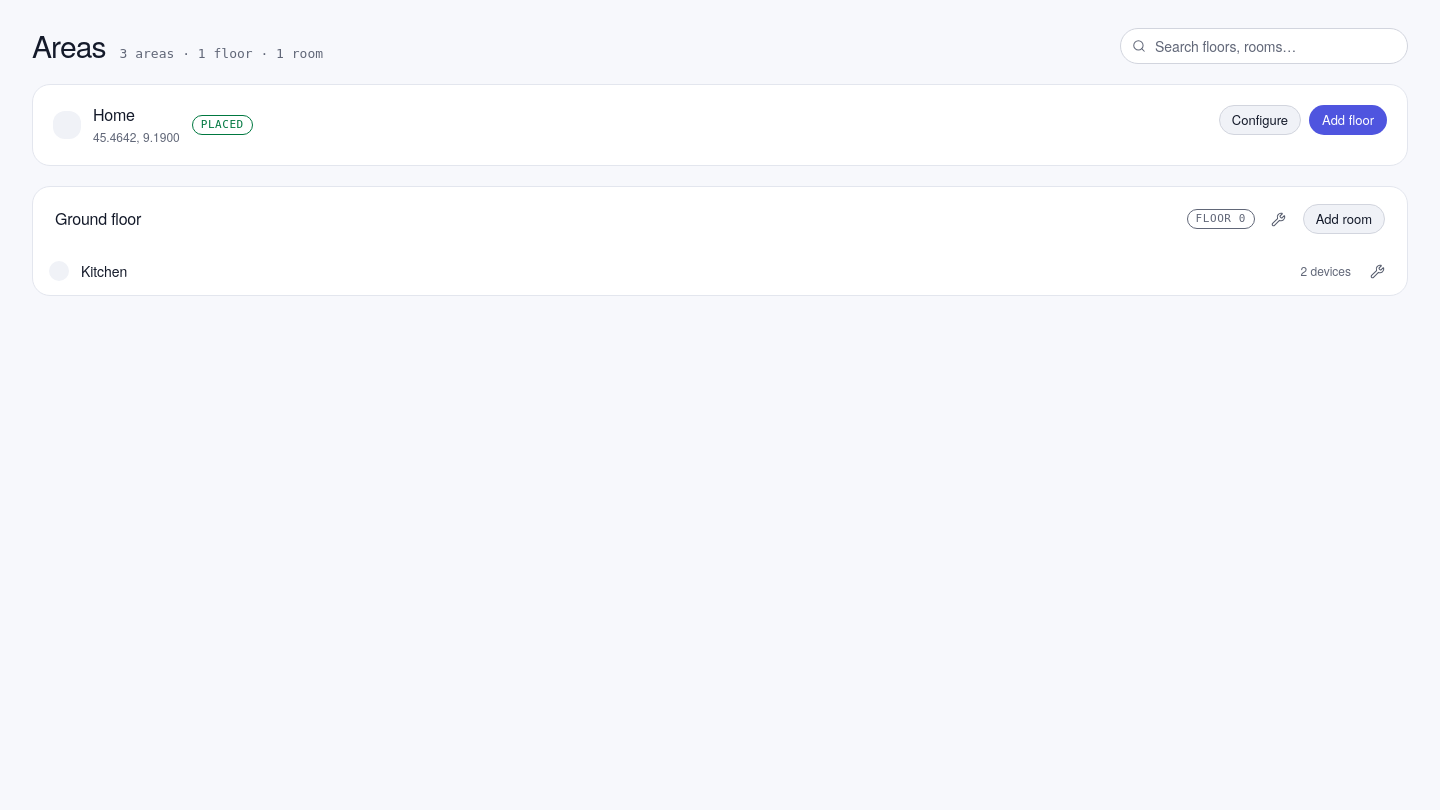
Test: AreasPage › opens a room for configuring from its row
Click the button named "Configure Kitchen". click: (1377, 271)
box: [1365, 259, 1389, 283]
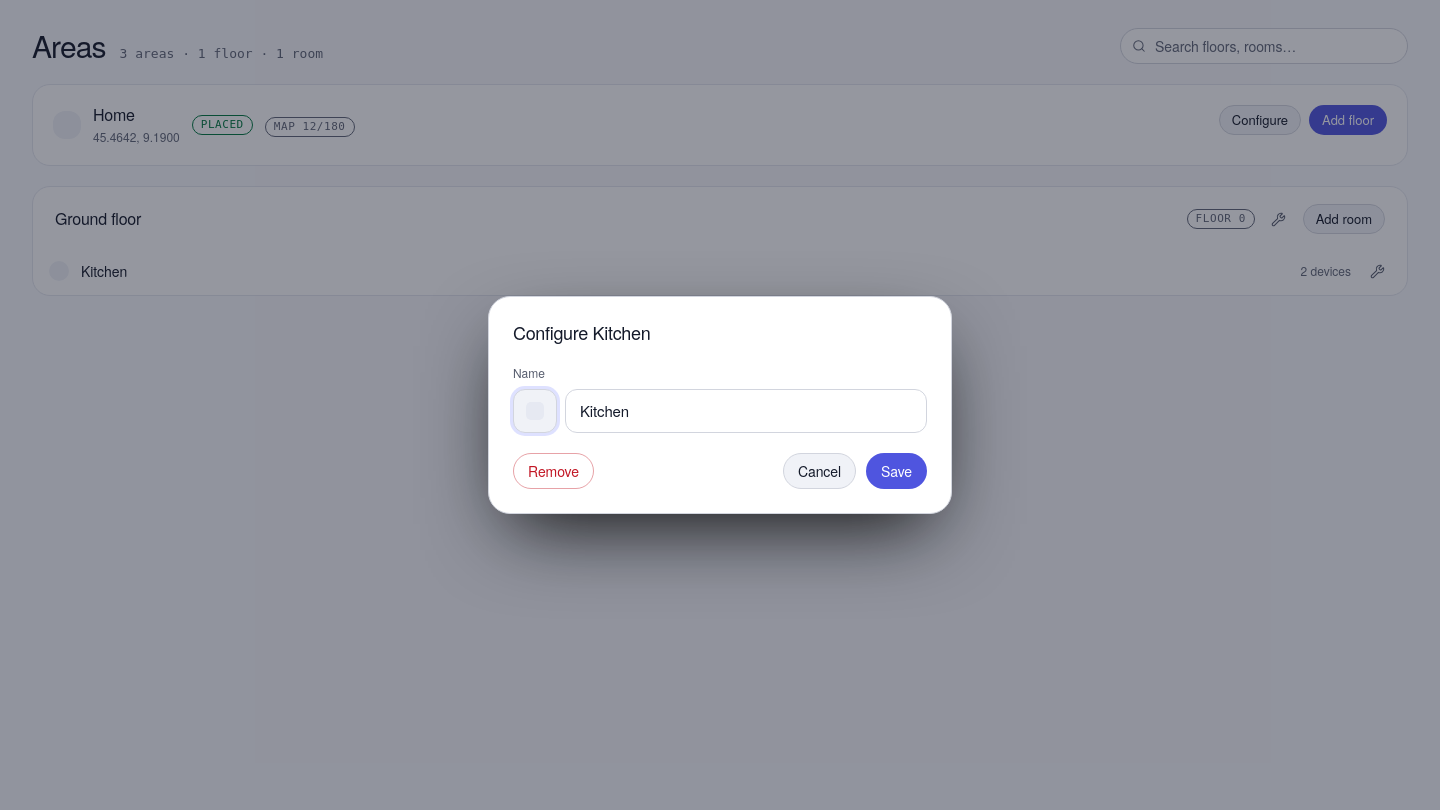
Result: the dialog shows "Configure Kitchen" at [513, 319, 650, 345]
